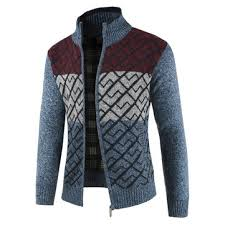C_cardigan sweater: (35, 15, 196, 208)
